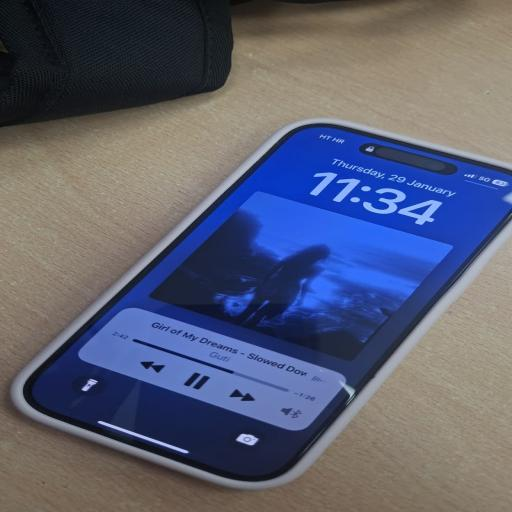people: (12, 118, 511, 489)
